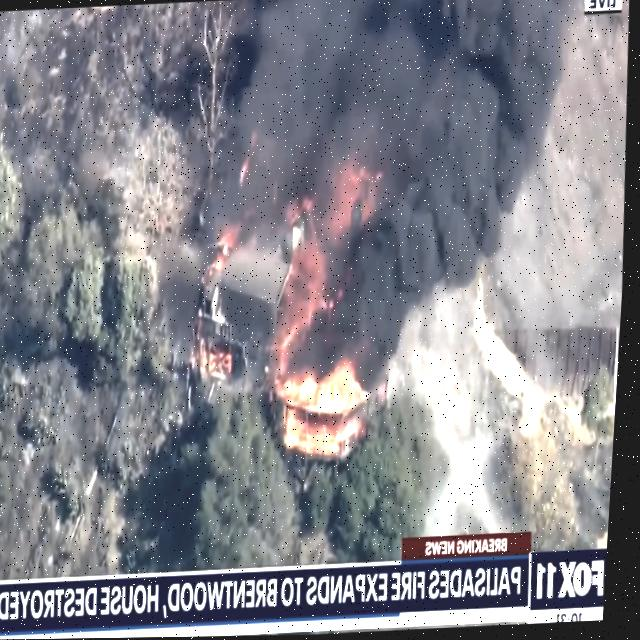Smoke: (208, 0, 578, 376)
